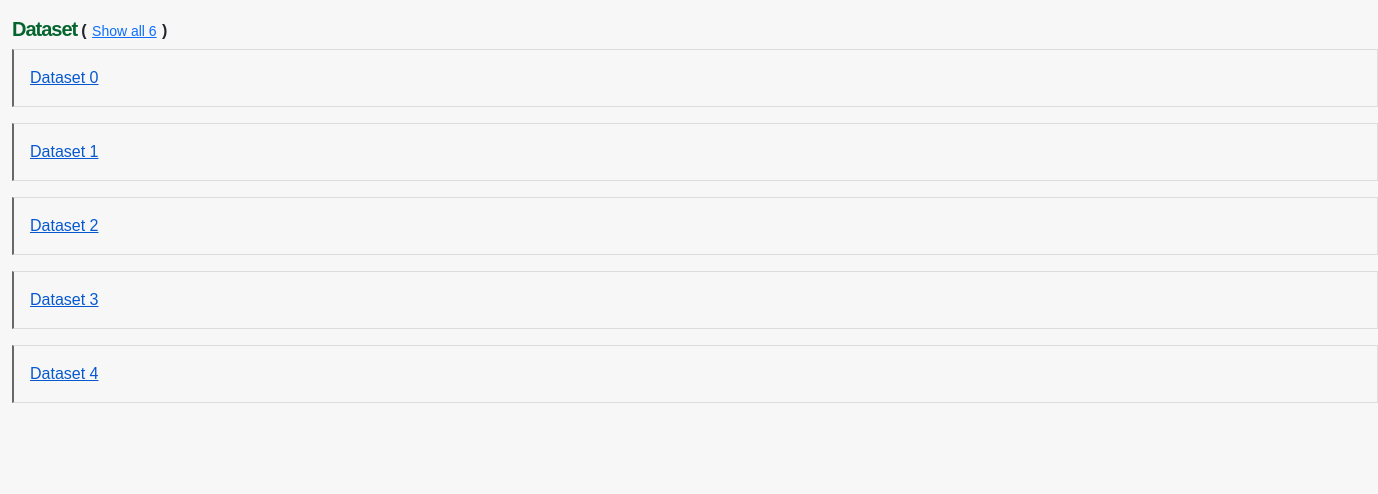
Scenario: RelatedItems › limits large groups and expands them on request
Expected: the number of list items is 5, [12,49,1377,107]; [12,123,1377,181]; [12,197,1377,255]; [12,271,1377,329]; [12,345,1377,403]
Click the button "Show all 6": (124, 32) [91,16,158,47]
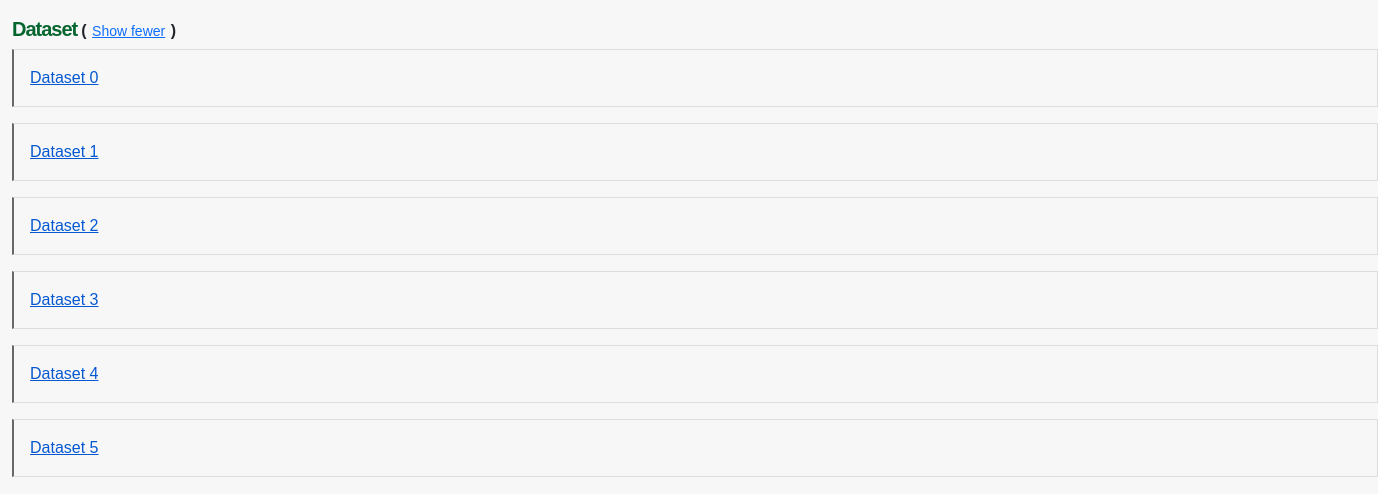
Now the text "Show fewer" is shown, box [91,16,166,47]
Now the number of list items is 6, box [12,49,1377,107]; [12,123,1377,181]; [12,197,1377,255]; [12,271,1377,329]; [12,345,1377,403]; [12,419,1377,477]
